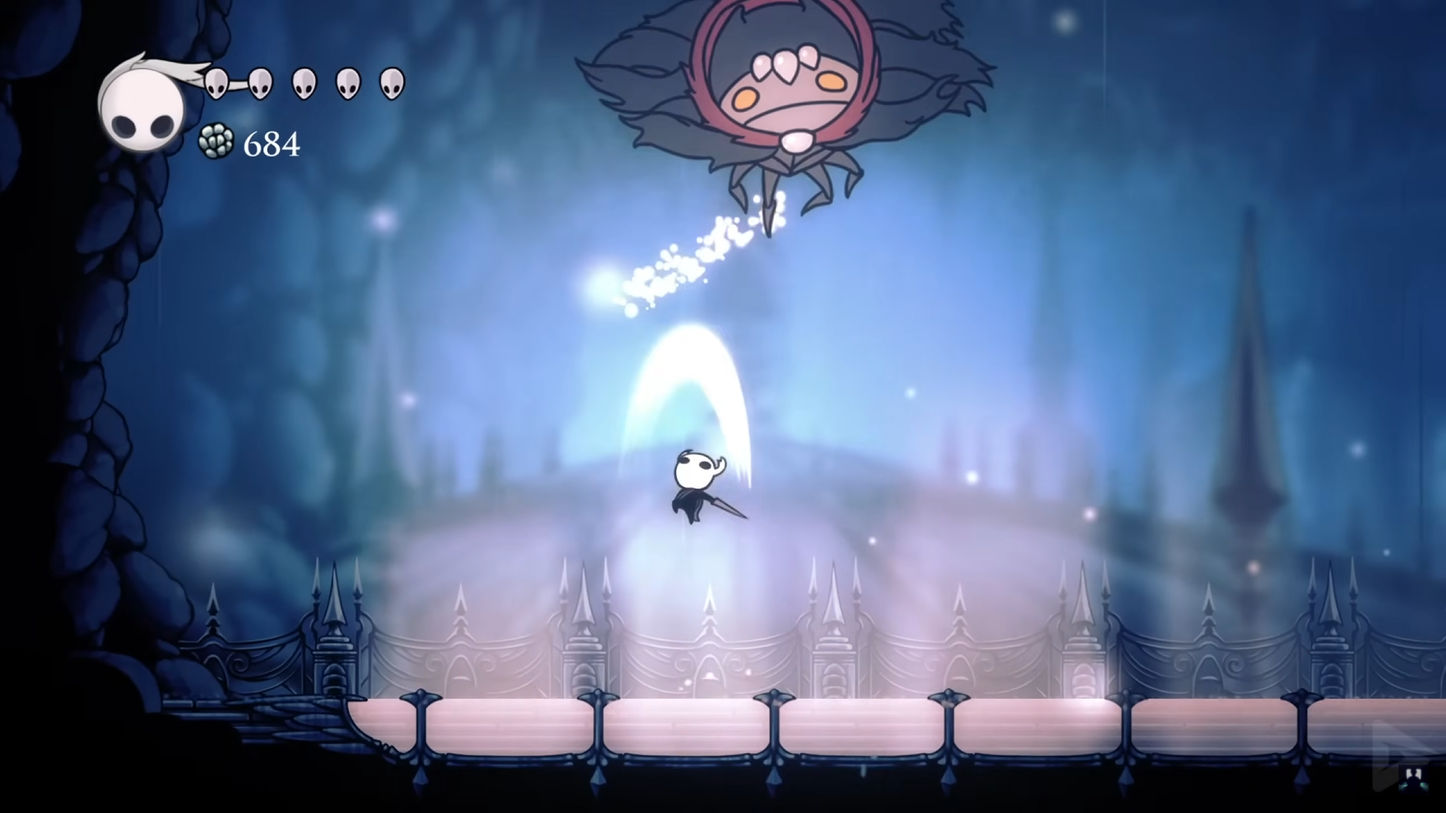HK: (662, 439, 732, 531)
